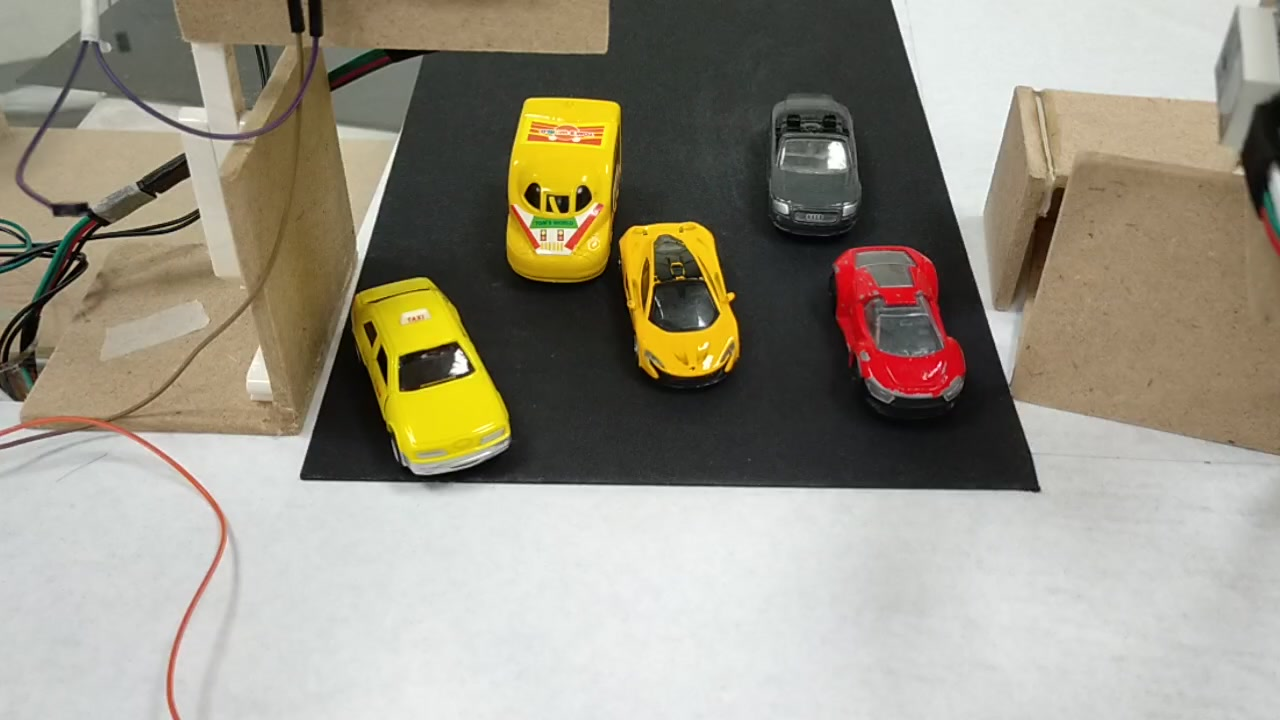car: (341, 286, 512, 479), (828, 246, 966, 420), (618, 227, 741, 388), (765, 87, 866, 240)
